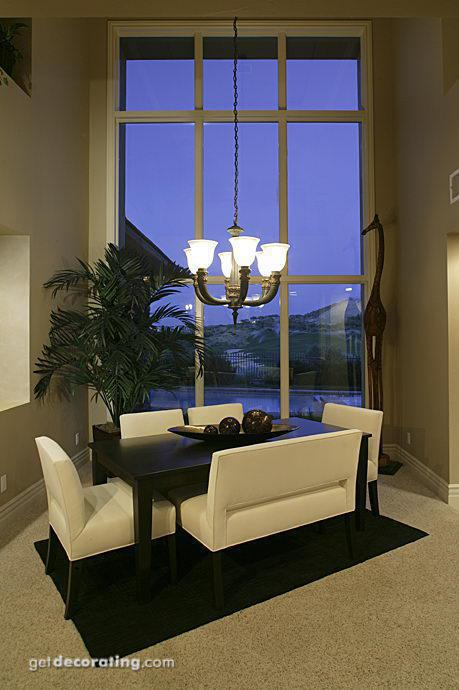Matera: (50, 230, 179, 433)
Ventana: (108, 31, 371, 410)
